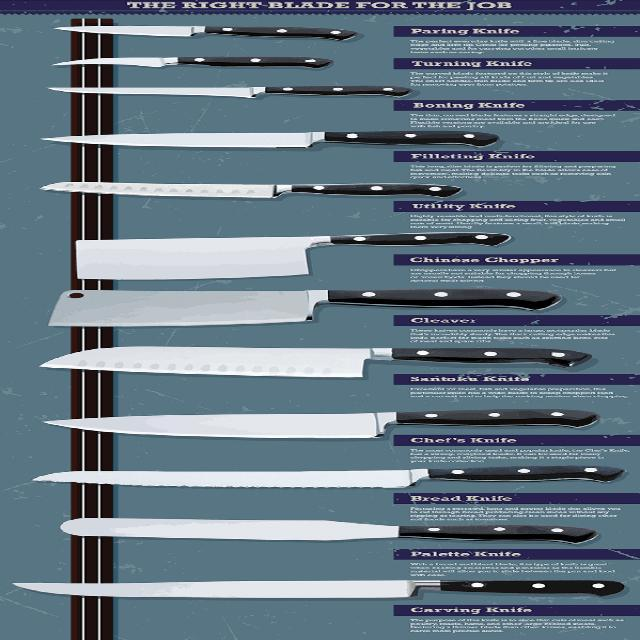Pisau: (9, 338, 596, 382)
